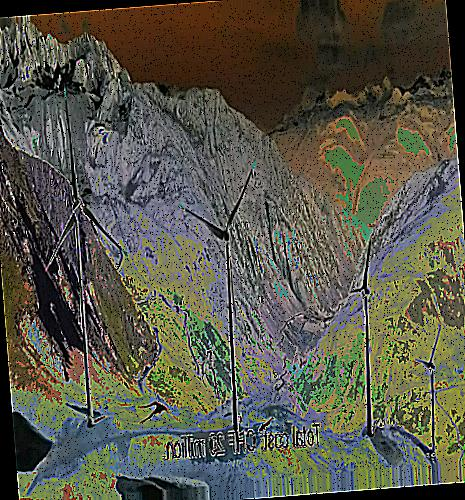wind turbine: (42, 90, 123, 423), (177, 158, 264, 423), (344, 242, 377, 427), (416, 323, 444, 439)
